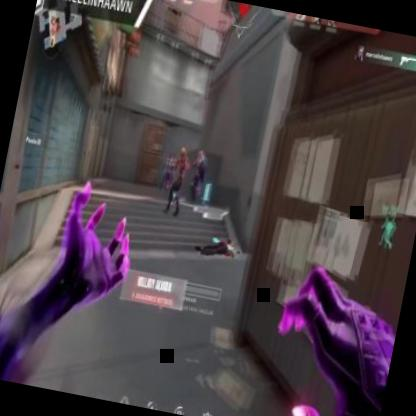enemy: (164, 146, 189, 218), (187, 149, 209, 203), (159, 148, 176, 192)
enemy_head: (178, 147, 186, 160), (198, 150, 204, 160), (168, 152, 172, 158)
